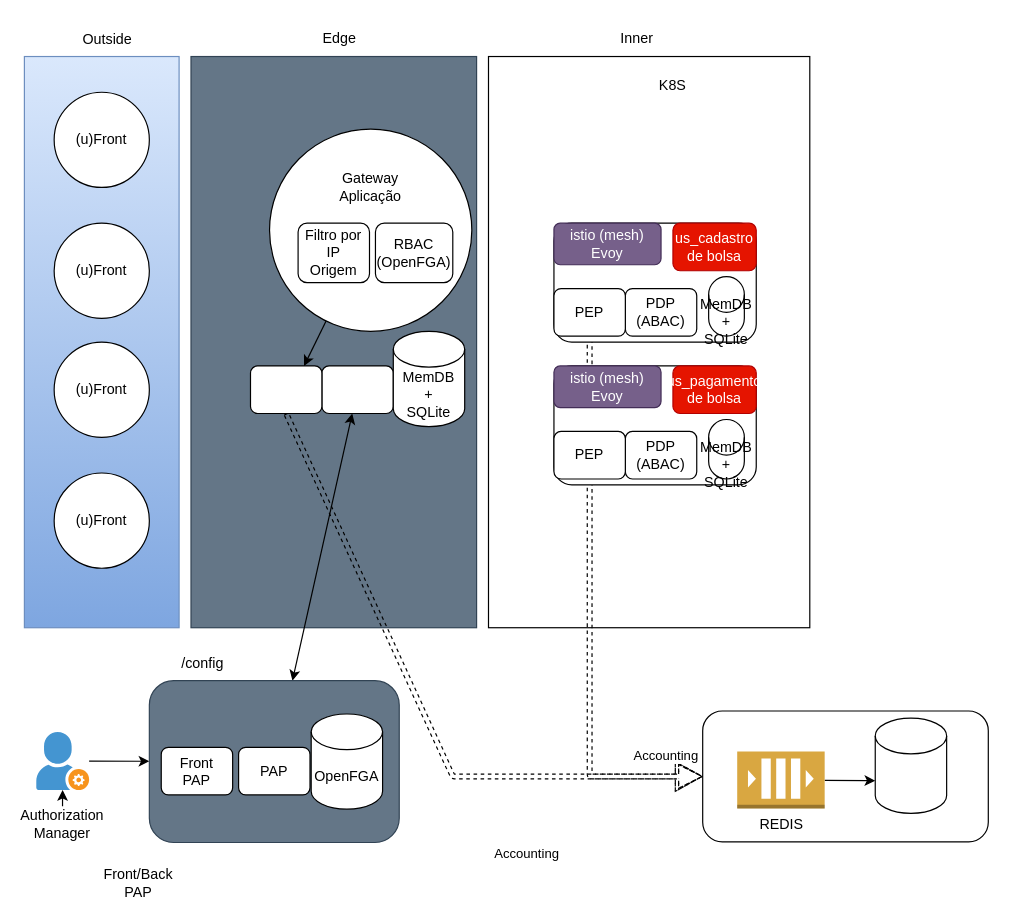
The diagram is 1009 pixels wide and 921 high, and some of its shapes have lost their labels. Here are the shapes that lost their labels. From the top down, the centre of each, then its label:
point 285,389: PEP (RBAC)
point 357,389: PDP (RBAC)
point 910,765: ELK
